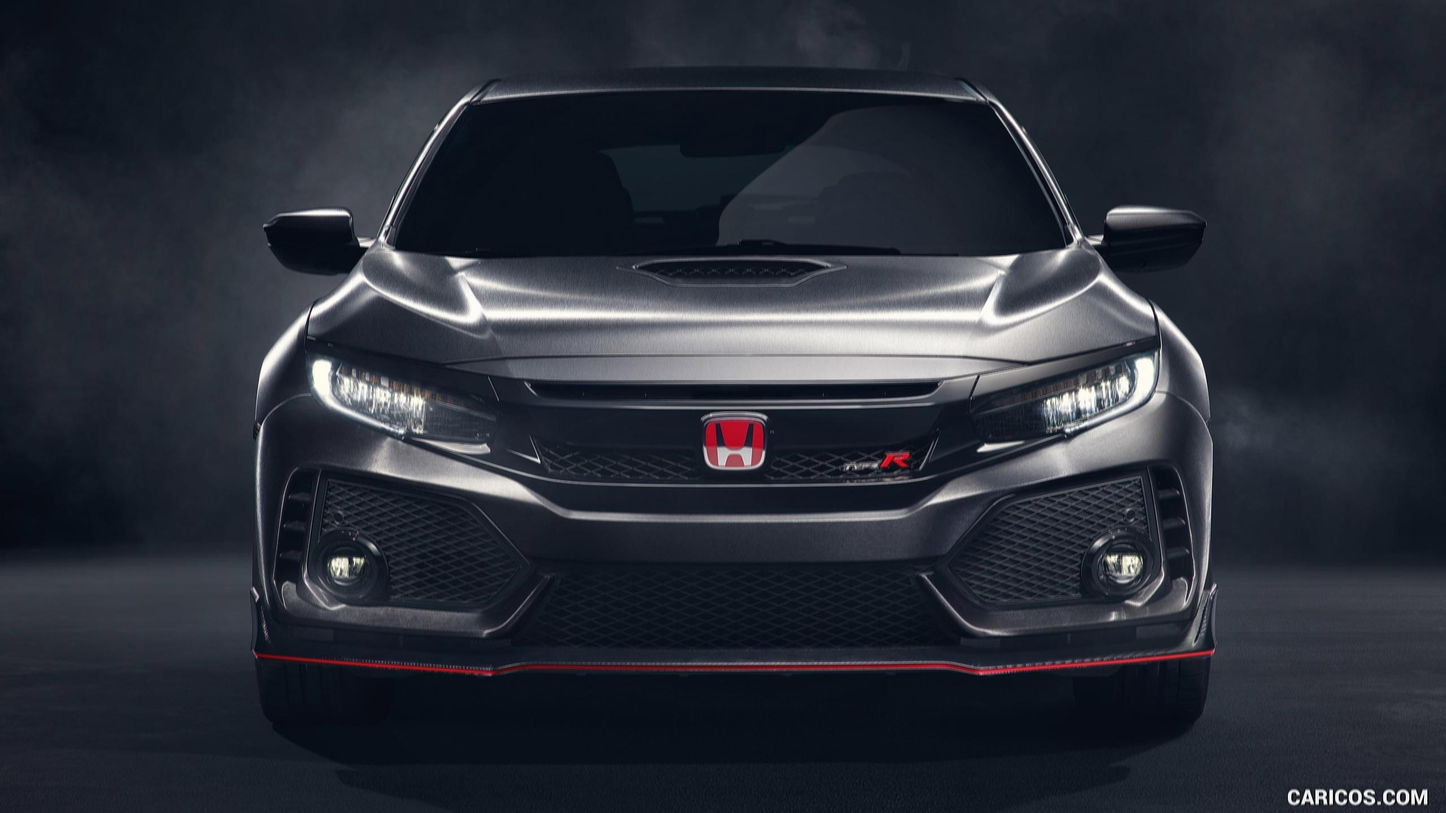Car hood: (300, 241, 1165, 390)
Front bumper: (200, 412, 1278, 703)
Headlight - -L-: (957, 331, 1162, 474)
Headlight - -R-: (296, 333, 524, 467)
Side mirror - -L-: (1092, 198, 1213, 279)
Side mirror - -R-: (252, 200, 373, 287)
